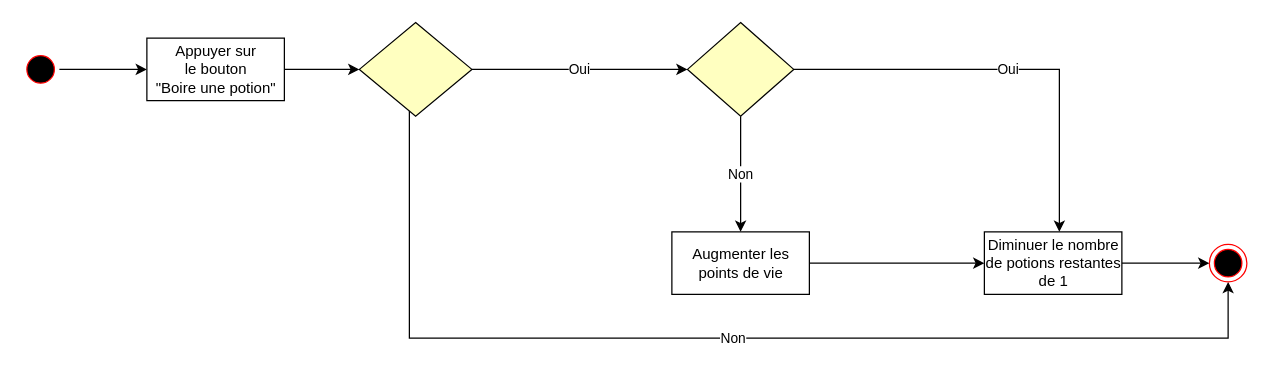
This 1269x370 diagram has some shape labels left out. Each missing label, with the box of its shape:
Nombre de potion > 0: (358, 21, 472, 116)
Vie du personnage à 100%: (686, 21, 794, 116)
